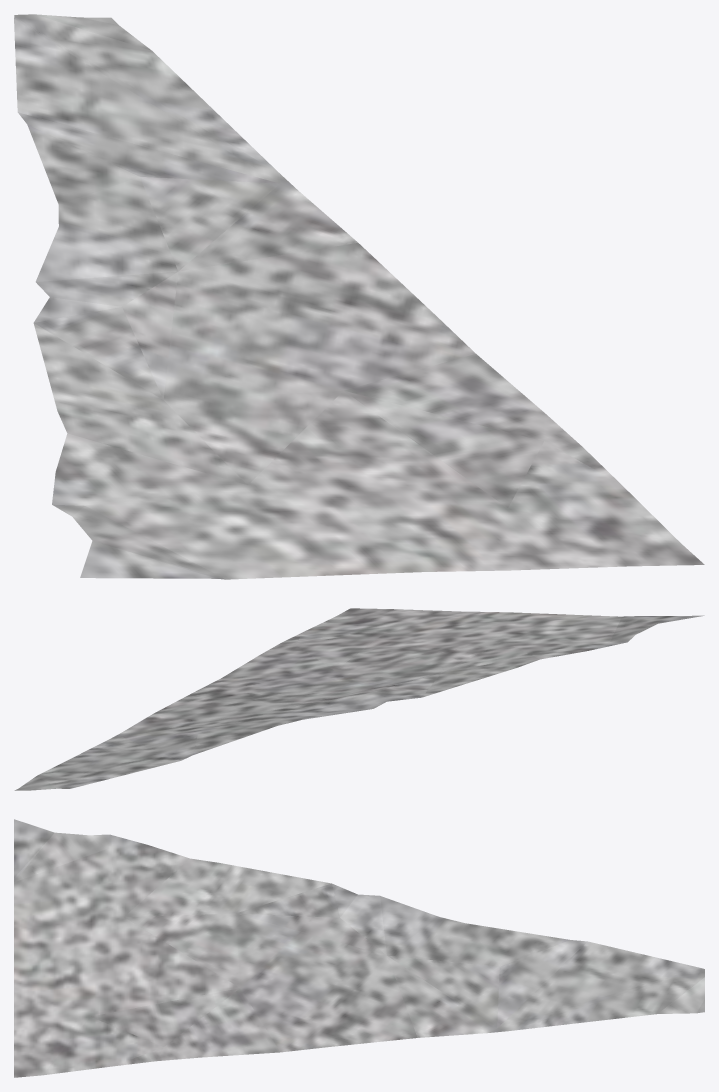
The picture shows the model from 3 angles, top to bottom: view 1: azimuth 30°, elevation 25°; view 2: azimuth 150°, elevation 25°; view 3: azimuth 270°, elevation 25°; orthographic projection. The views are drawn at different scales.
Size of the model in its own units: 0.5092 by 0.1085 by 0.8373.
1 material, 1 textured.
